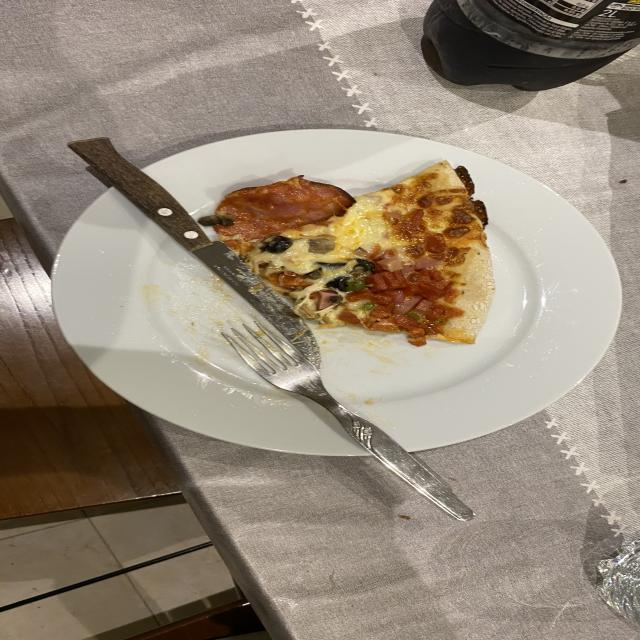fork: (222, 317, 474, 520)
knife: (69, 138, 320, 371)
pizza: (213, 161, 494, 347)
plate: (144, 129, 622, 451), (52, 190, 367, 456)
